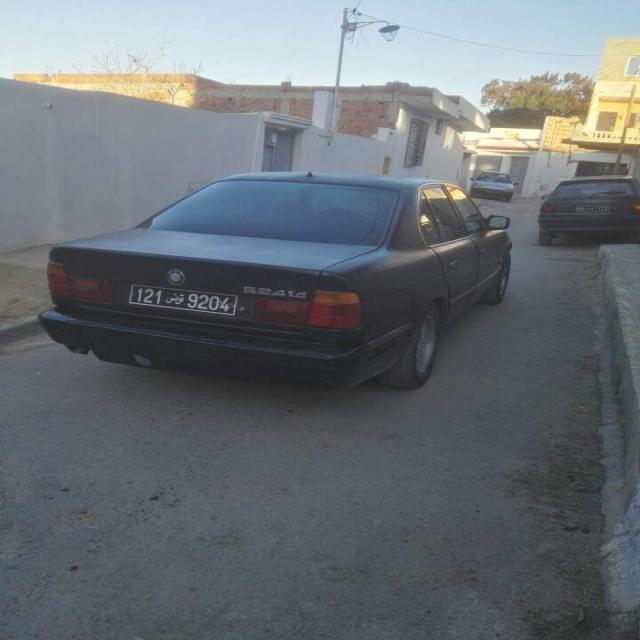LP: (126, 281, 236, 314)
